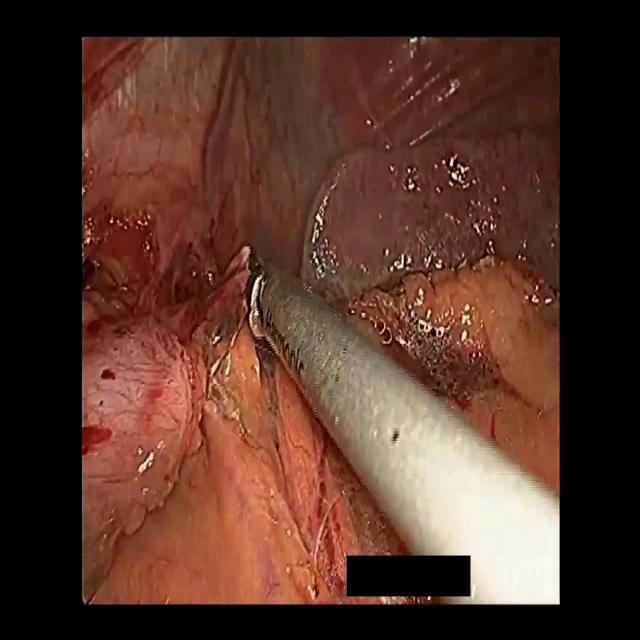surgical-area: (83, 35, 560, 603)
surgical-tool: (245, 244, 562, 607)
